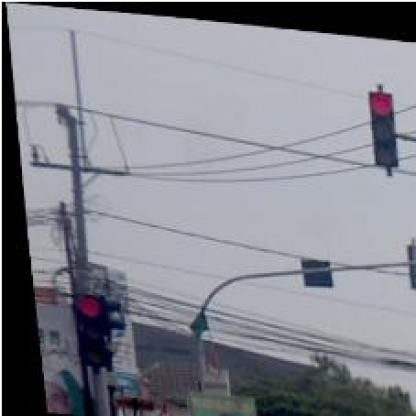red: (65, 291, 104, 372), (364, 80, 398, 162)
